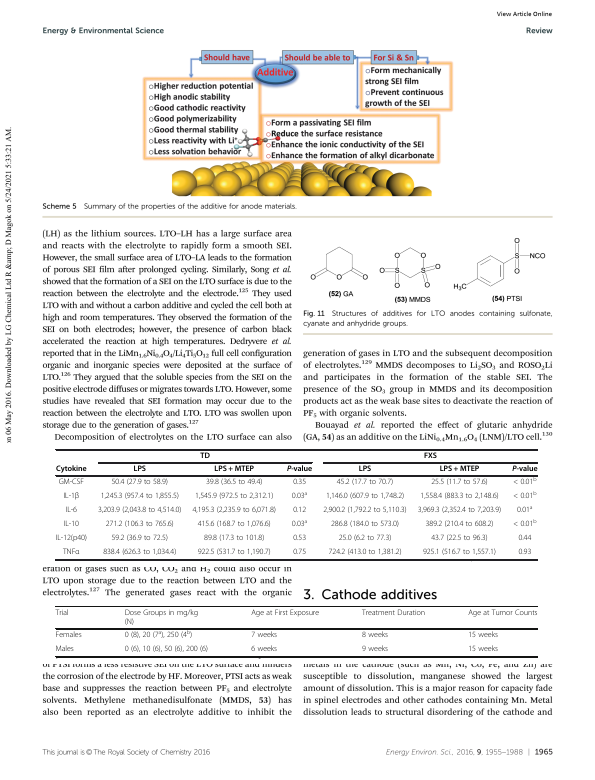borderless: (54, 448, 537, 559), (54, 605, 537, 656)
cell: (124, 609, 199, 627), (191, 506, 277, 516), (322, 506, 408, 516), (124, 645, 209, 655), (97, 506, 182, 516), (417, 506, 502, 516), (124, 629, 193, 641), (100, 492, 180, 502), (194, 492, 274, 502), (325, 492, 405, 502), (419, 492, 499, 502), (197, 520, 272, 530), (102, 548, 177, 558), (197, 548, 272, 558), (327, 548, 402, 558), (422, 548, 497, 558), (105, 520, 175, 530), (330, 520, 400, 530), (424, 520, 494, 530), (467, 609, 538, 618), (250, 609, 320, 618), (203, 534, 265, 544), (110, 478, 169, 488), (430, 478, 489, 488), (110, 534, 169, 544), (430, 534, 489, 544), (361, 609, 426, 618), (205, 478, 263, 488), (336, 478, 394, 488), (338, 534, 392, 544), (213, 465, 255, 475), (439, 465, 480, 475), (55, 534, 88, 544), (467, 631, 499, 641), (467, 645, 499, 655), (55, 465, 87, 475), (250, 631, 278, 641), (361, 631, 389, 641), (250, 645, 278, 655), (361, 645, 389, 655), (512, 477, 537, 488), (512, 491, 537, 502), (512, 519, 537, 530), (55, 631, 82, 641), (286, 465, 313, 475), (511, 465, 538, 475), (58, 478, 85, 488), (54, 645, 75, 655), (291, 491, 308, 502), (516, 505, 533, 516), (291, 519, 308, 530), (62, 492, 80, 502), (62, 548, 80, 558), (63, 520, 80, 530), (132, 465, 147, 475), (292, 478, 307, 488), (292, 506, 307, 516), (292, 534, 307, 544), (517, 534, 532, 544), (292, 548, 307, 558), (517, 548, 532, 558), (358, 465, 372, 475), (64, 506, 78, 516), (423, 452, 438, 461), (55, 609, 69, 618), (199, 452, 211, 461)
